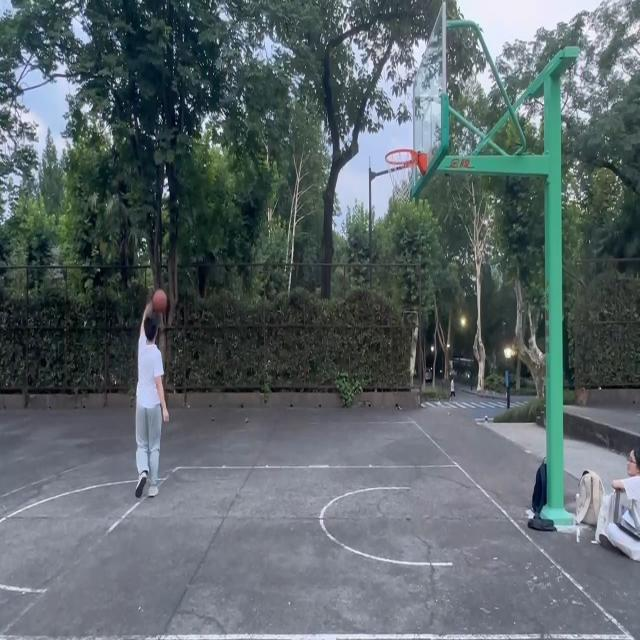basketball: (386, 152, 432, 202)
rim: (153, 290, 168, 314)
